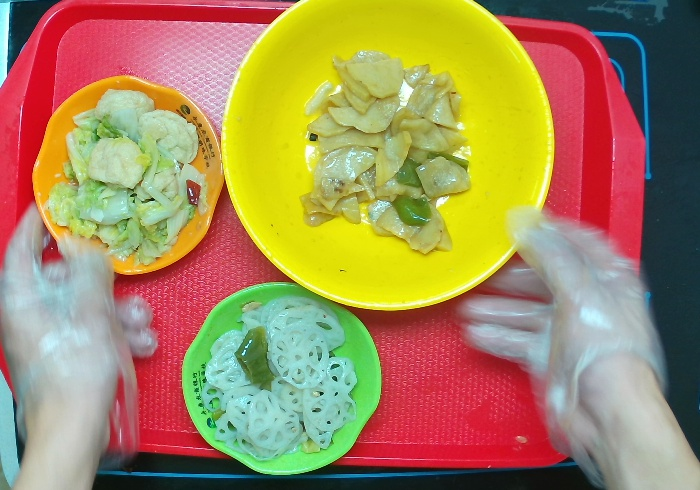YKMZ-Huang_Se_Tang_Wan: (215, 1, 567, 312)
YKMZ-Ju_Se_Ao_Bian_Wan: (24, 71, 232, 277)
YKMZ-Lv_Se_Ao_Bian_Wan: (179, 275, 387, 479)
